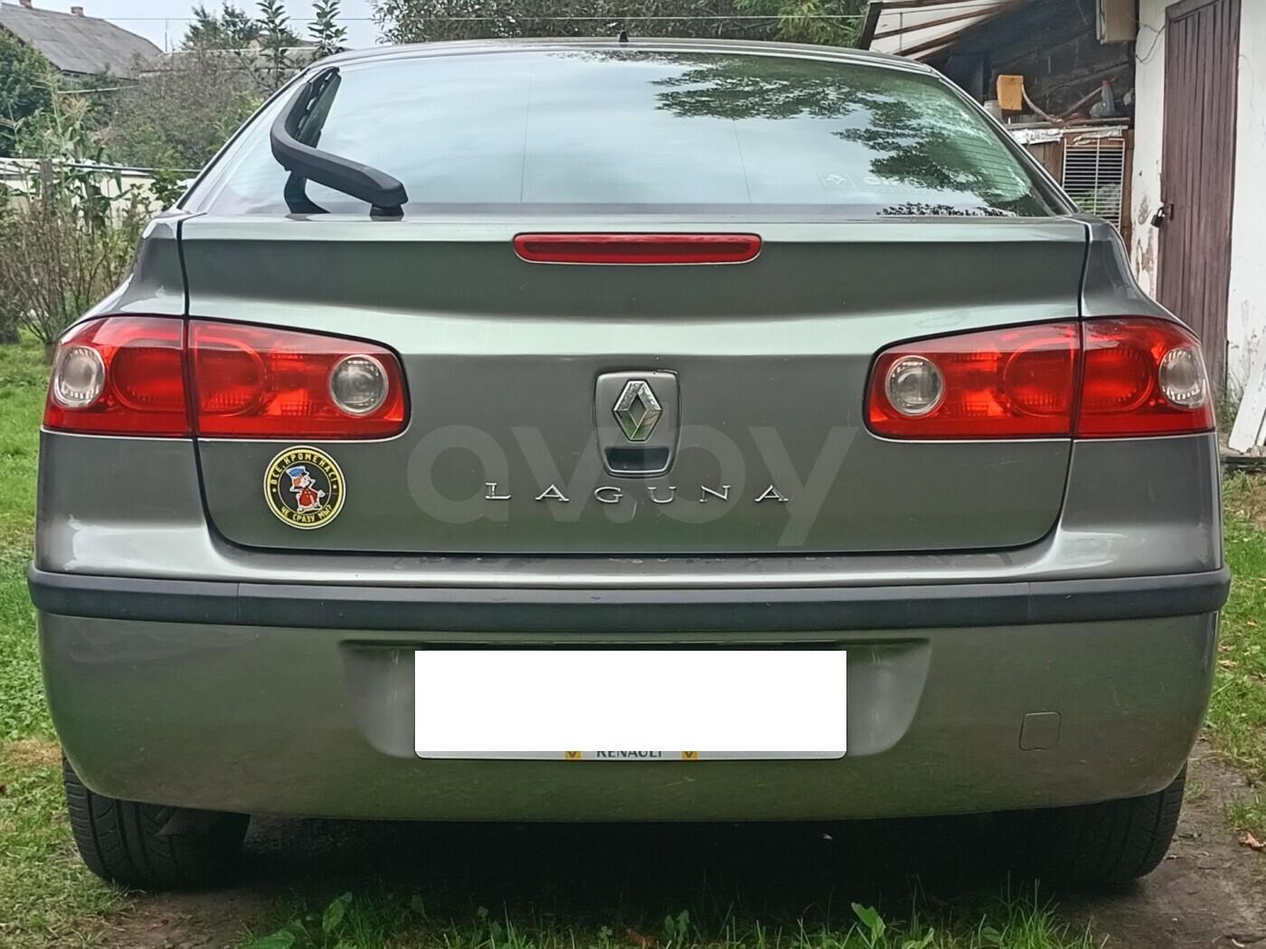Laguna_2005-2007: (28, 30, 1240, 901)
